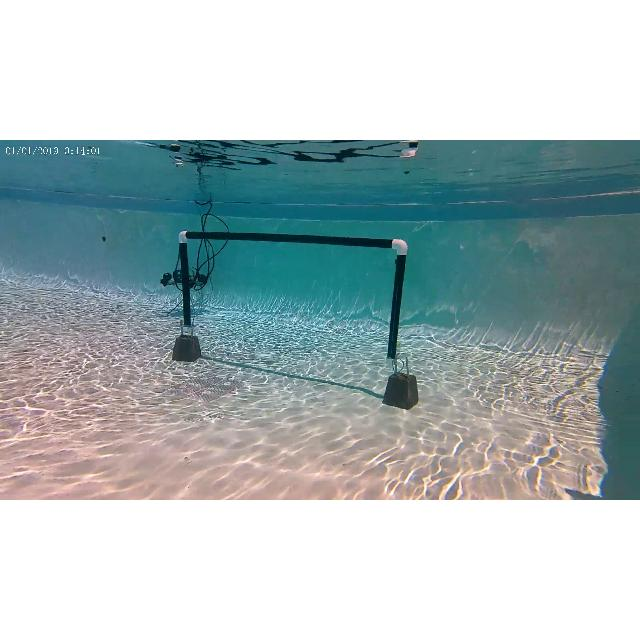prequal gate: (178, 230, 408, 366)
prequal gate leg l: (388, 237, 418, 397), (174, 228, 200, 360)
